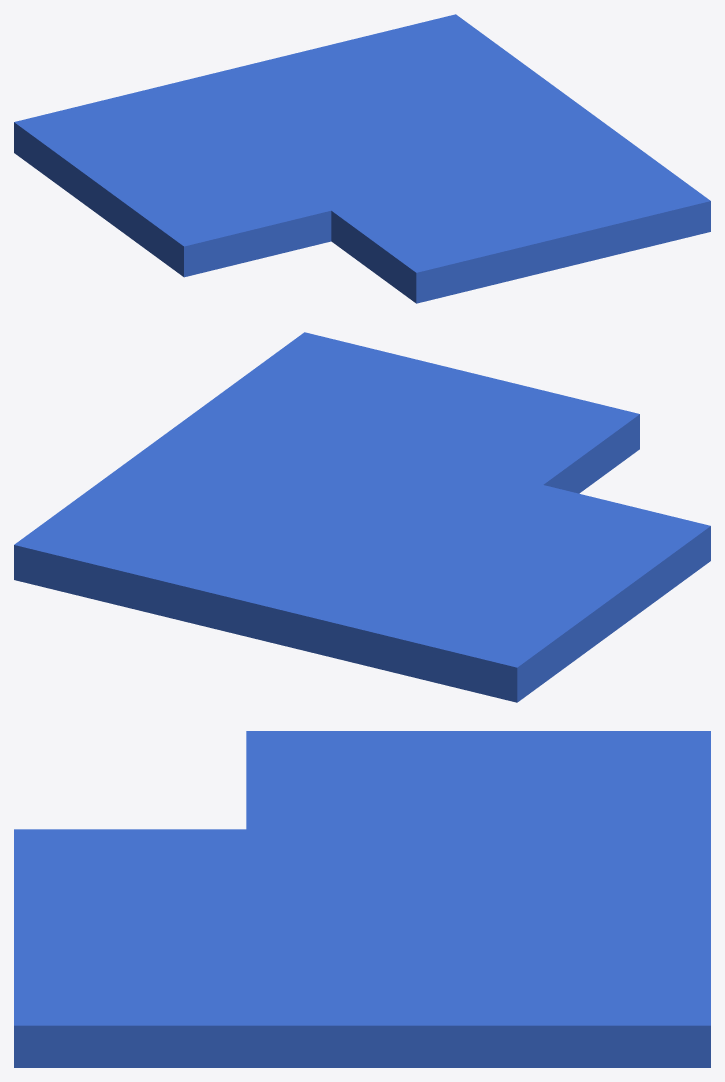
The model's file is block-2-1.glb.
The picture shows the model from 3 angles, top to bottom: view 1: azimuth 30°, elevation 25°; view 2: azimuth 150°, elevation 25°; view 3: azimuth 270°, elevation 25°; orthographic projection. The views are drawn at different scales.
Parts seen in each view (by area): view 1: block-2-1; view 2: block-2-1; view 3: block-2-1.
Part boxes in pixels (x1=…): block-2-1: x1=14, y1=14, x2=710, y2=303; block-2-1: x1=14, y1=332, x2=710, y2=702; block-2-1: x1=14, y1=731, x2=710, y2=1067.
Size of the model in its own units: 3 by 0.2 by 3.
